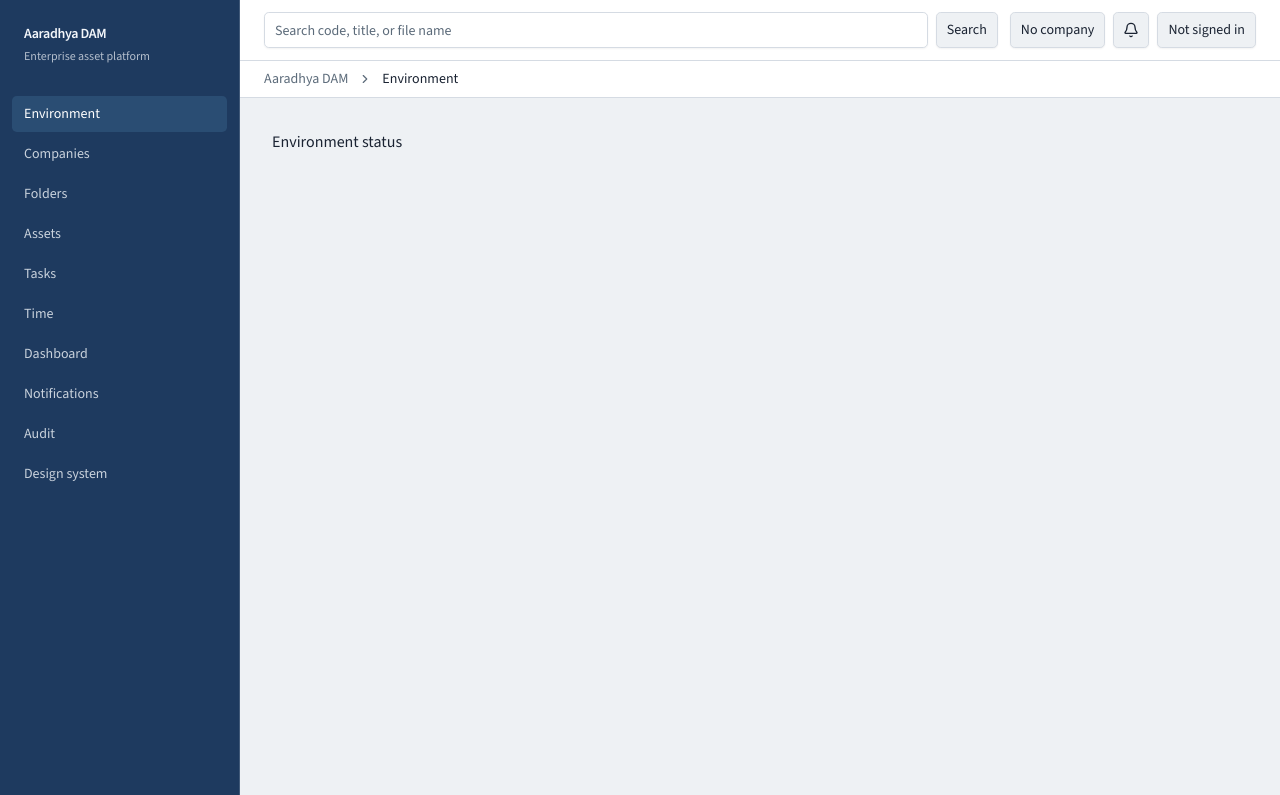
Test case: AppShell › navigates between the environment page and the design system
The image size is (1280, 795).
Click the link "Design system" at {"x": 66, "y": 474}, box 24,464 -> 108,483
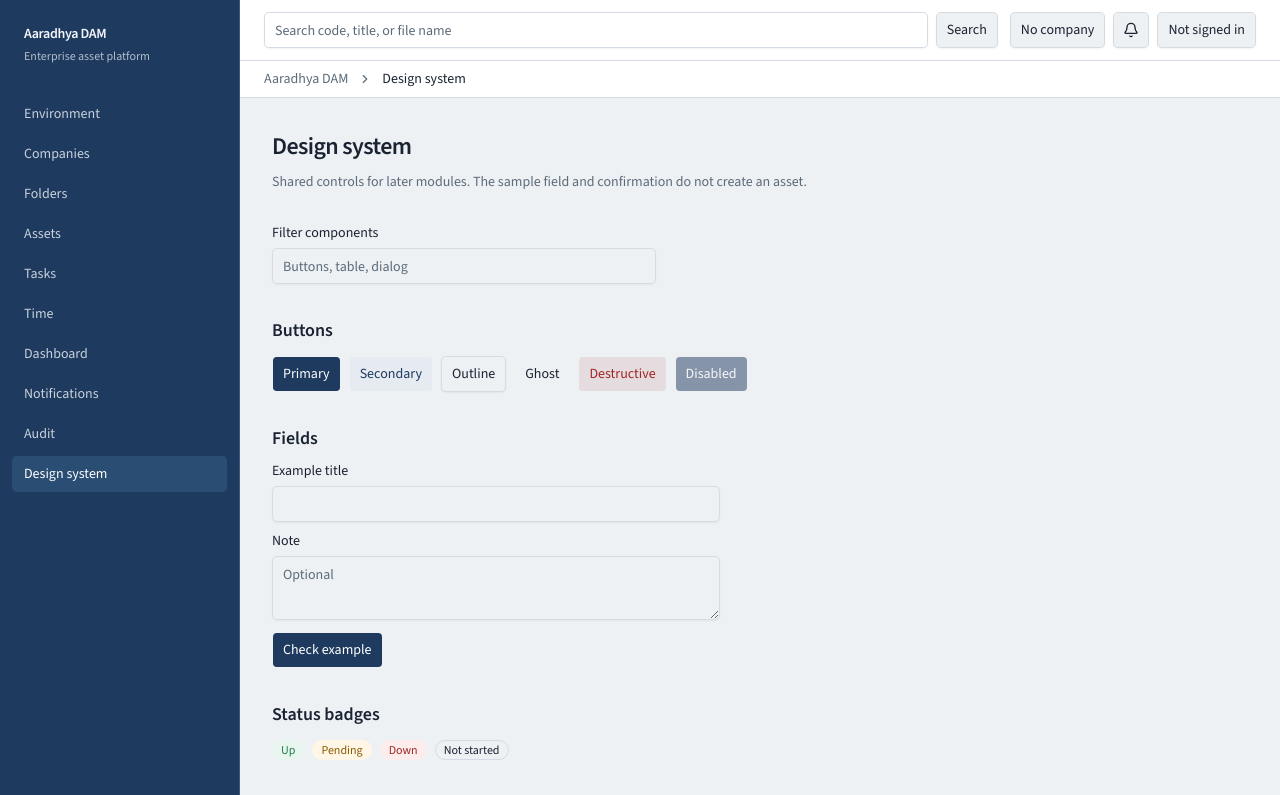
Expected: the heading "Design system" is shown, 272,130 -> 412,162
Expected: the button "Primary" is shown, 272,356 -> 341,392
